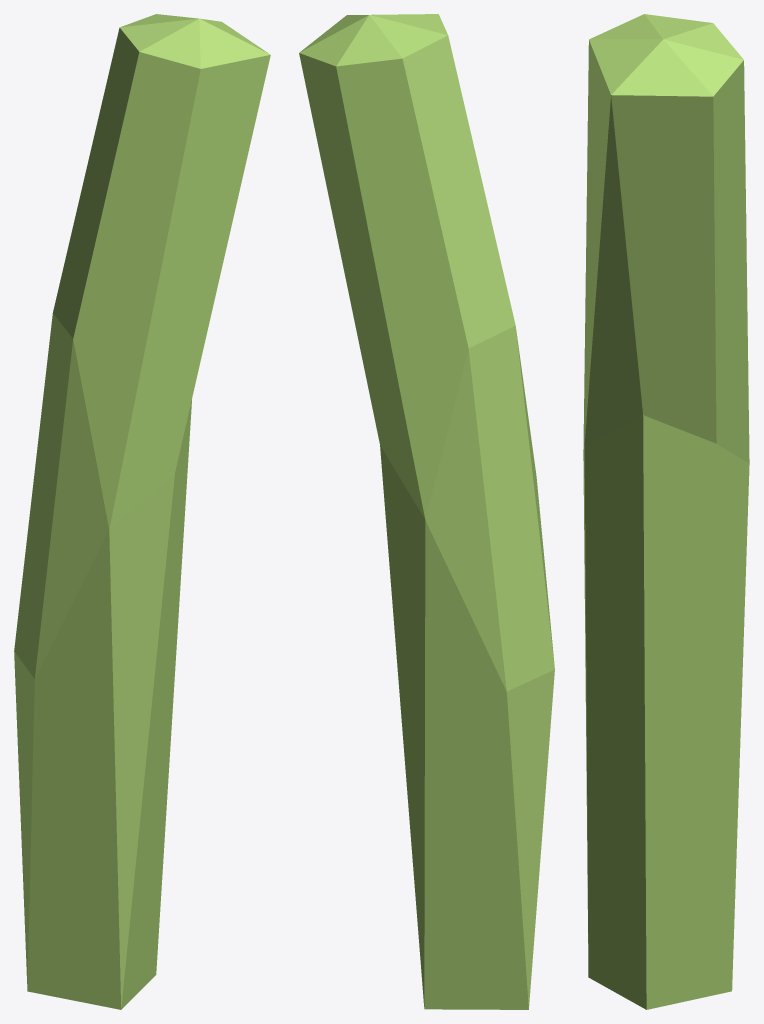
File: Cactus_b_m_02.fbx
3 renders of one model, left to right at view 1: azimuth 30°, elevation 25°; view 2: azimuth 150°, elevation 25°; view 3: azimuth 270°, elevation 25°, orthographic. The views are drawn at different scales.
Parts seen in each view (by area): view 1: Cactus_b_m_02; view 2: Cactus_b_m_02; view 3: Cactus_b_m_02.
Part boxes in pixels (box(x1,y1,x2,y2)): Cactus_b_m_02: box(14, 14, 270, 1009); Cactus_b_m_02: box(299, 14, 554, 1009); Cactus_b_m_02: box(583, 14, 749, 1009).
Size of the model in its own units: 54.78 by 222 by 33.56.
